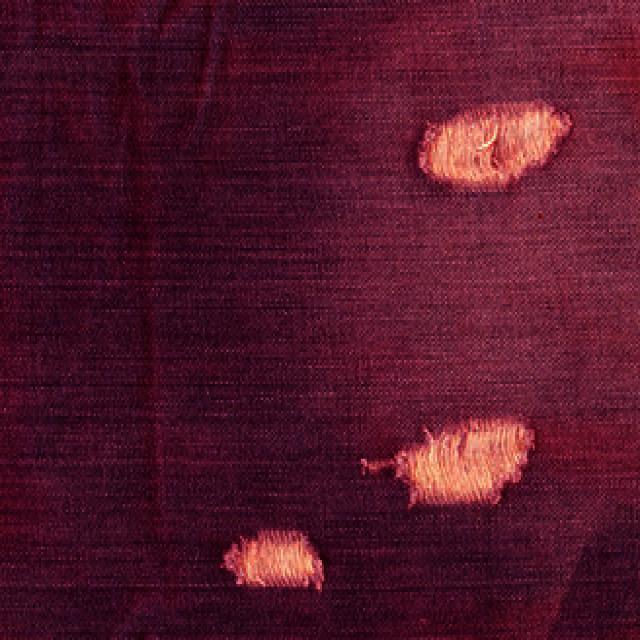seam: (273, 16, 640, 308), (290, 361, 596, 522), (117, 458, 357, 624)
